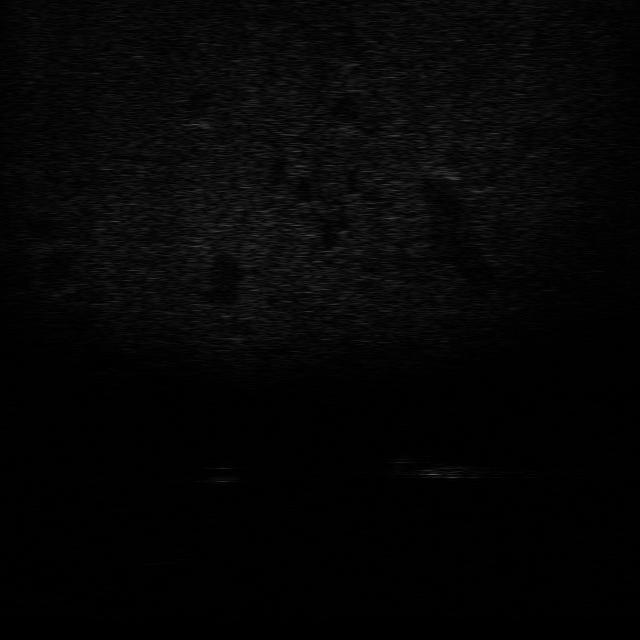ball: (200, 463, 244, 485)
human body: (382, 452, 503, 482)
